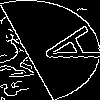A: (25, 25, 100, 73)
